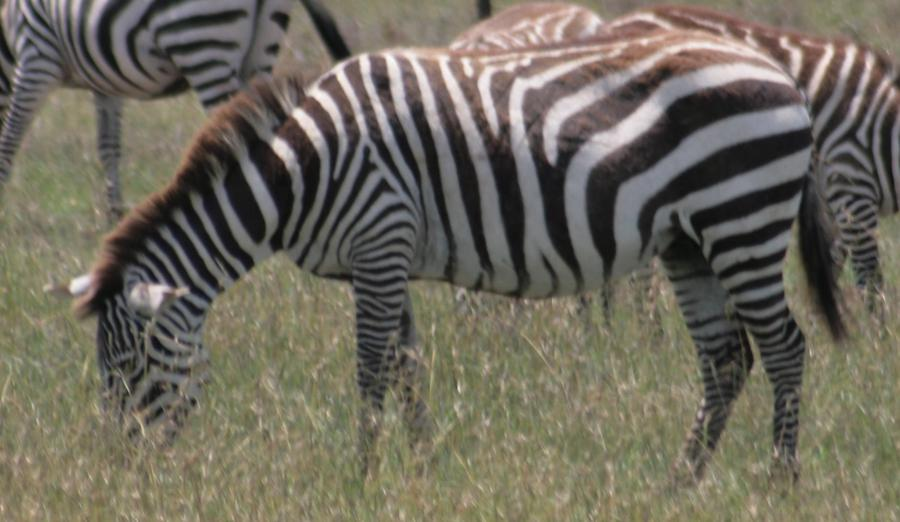zebra_plains: (296, 18, 817, 298)
